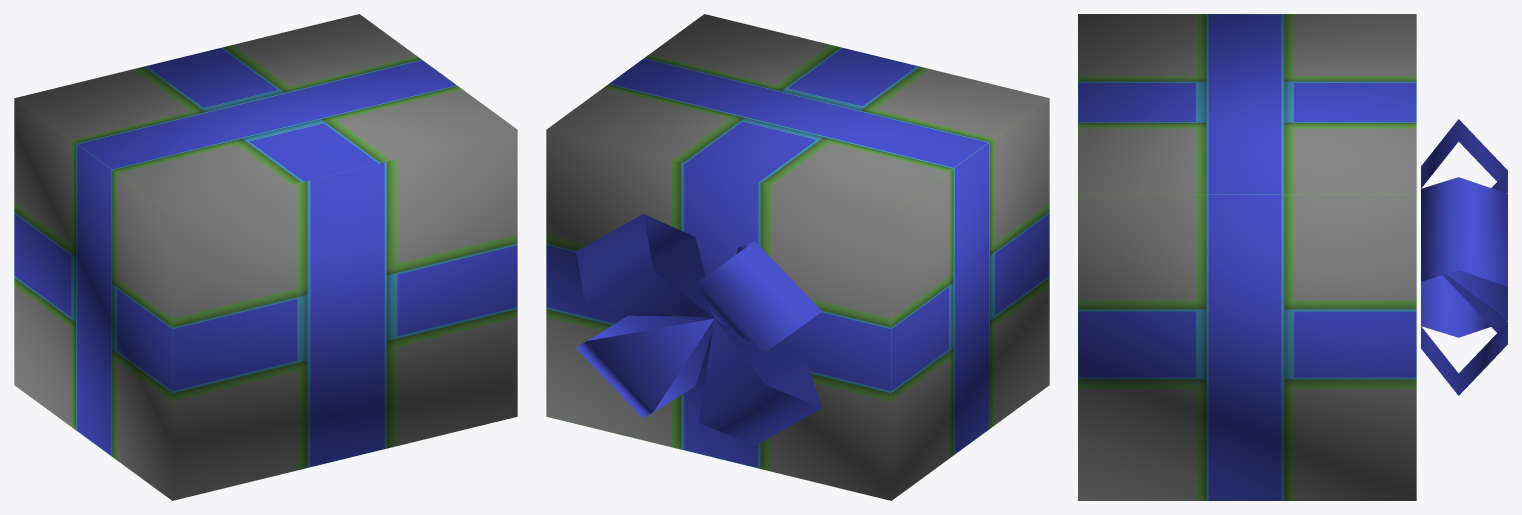
Rendered from Present_green_b.fbx.
The picture shows the model from 3 angles, left to right: view 1: azimuth 30°, elevation 25°; view 2: azimuth 150°, elevation 25°; view 3: azimuth 270°, elevation 25°; orthographic projection. The views are drawn at different scales.
Visible parts, largest first — view 1: Present_green_b; view 2: Present_green_b; view 3: Present_green_b.
Boxes of the visible parts, x1=… form: Present_green_b: x1=14, y1=14, x2=517, y2=500; Present_green_b: x1=546, y1=14, x2=1049, y2=500; Present_green_b: x1=1078, y1=14, x2=1507, y2=500.
Bounding box in the file's own units: 110 × 87.15 × 111.
